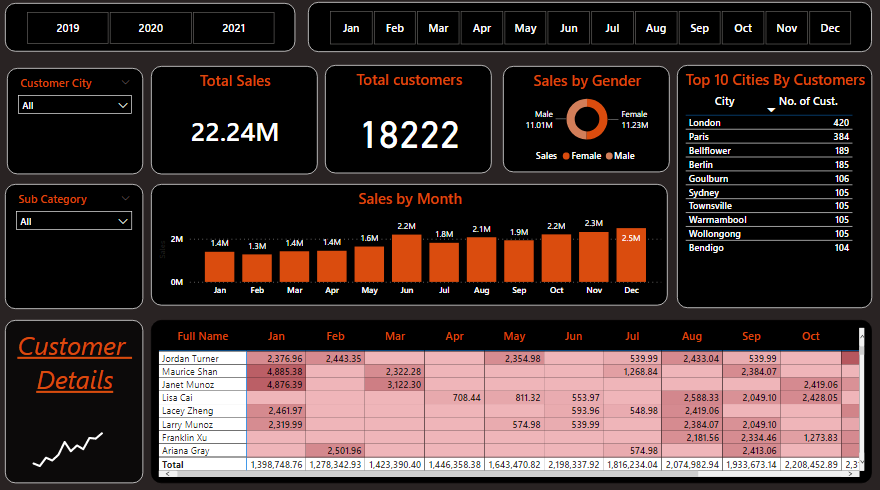

The page's visual inventory and layout, read from the dashboard file:
{"tool":"powerbi","page":{"name":"Customer Details","canvas":[1280,720],"ordinal":1},"visuals":[{"type":"tableEx","title":"Top 10 Cities By Customers","fields":{"Values":["DIM_Customer.Customer City","Key Measures.Total Customers"]},"box":[985,102.2,280.8,349.9],"z":0},{"type":"slicer","fields":{"Values":["DIM_Products (2).Sub Category"]},"box":[17.3,273.6,198.7,180],"z":1000},{"type":"slicer","fields":{"Values":["DIM_Customer.Customer City"]},"box":[20.2,106.6,195.8,152.6],"z":2000},{"type":"slicer","fields":{"Values":["Dim_Date_Excel.Year"]},"box":[17.5,12.7,418,69.9],"z":3000},{"type":"slicer","fields":{"Values":["Dim_Date_Excel.MonthShort"]},"box":[453,11.1,812.2,71.5],"z":4000},{"type":"textbox","box":[17.3,469.4,198.7,234.7],"z":5000},{"type":"columnChart","title":"Sales by Month","fields":{"Y":["Key Measures.Sales"],"Category":["Dim_Date_Excel.MonthShort"]},"box":[227.3,273.4,743.8,174.8],"z":6000},{"type":"card","title":"Total customers","fields":{"Values":["Key Measures.countn"]},"box":[478.1,102.2,240.5,155.5],"z":7000},{"type":"pivotTable","fields":{"Rows":["DIM_Customer.Full Name"],"Values":["Key Measures.Sales"],"Columns":["Dim_Date_Excel.MonthShort"]},"box":[227.3,468.9,1037.9,235.2],"z":8000},{"type":"donutChart","title":"Sales by Gender ","fields":{"Category":["DIM_Customer.Gender"],"Y":["Key Measures.Sales"]},"box":[734.4,103.7,240,152.6],"z":9000},{"type":"card","title":"Total Sales","fields":{"Values":["Key Measures.Sales"]},"box":[227.3,103.3,240,155.8],"z":10000},{"type":"lineChart","fields":{"Y":["Key Measures.Total Customers"],"Category":["Dim_Date_Excel.MonthNumber"]},"box":[34.6,586.1,164.2,106.6],"z":11000}]}

Visuals, with their boxes in screenshot pixels (x1, y1, x2, y2), scaled from the page's 1280x720 canvas onto the 880x490 screenshot:
"Top 10 Cities By Customers" tableEx: 677, 70, 870, 308
slicer - DIM_Products (2).Sub Category: 12, 186, 148, 309
slicer - DIM_Customer.Customer City: 14, 73, 148, 176
slicer - Dim_Date_Excel.Year: 12, 9, 299, 56
slicer - Dim_Date_Excel.MonthShort: 311, 8, 870, 56
textbox: 12, 319, 148, 479
"Sales by Month" columnChart: 156, 186, 668, 305
"Total customers" card: 329, 70, 494, 175
pivotTable - DIM_Customer.Full Name x Key Measures.Sales: 156, 319, 870, 479
"Sales by Gender " donutChart: 505, 71, 670, 174
"Total Sales" card: 156, 70, 321, 176
lineChart - Key Measures.Total Customers x Dim_Date_Excel.MonthNumber: 24, 399, 137, 471
